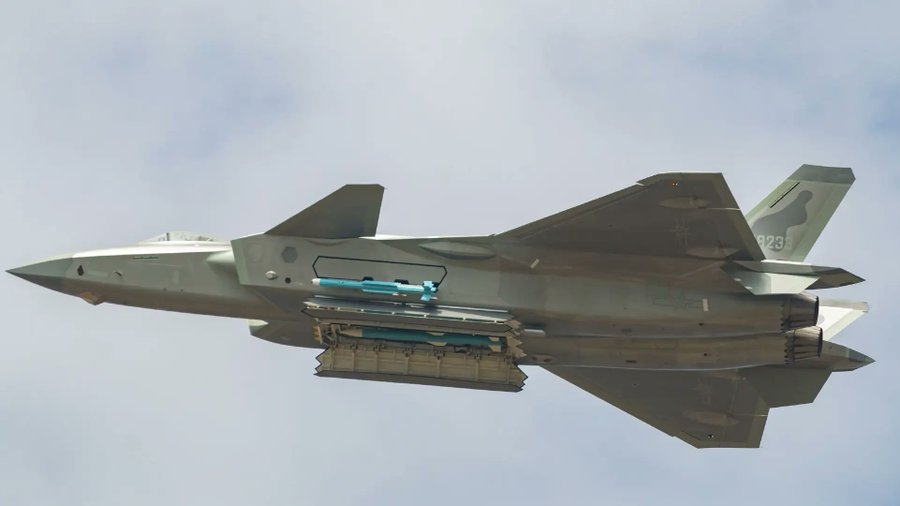J20: (4, 162, 877, 450)
